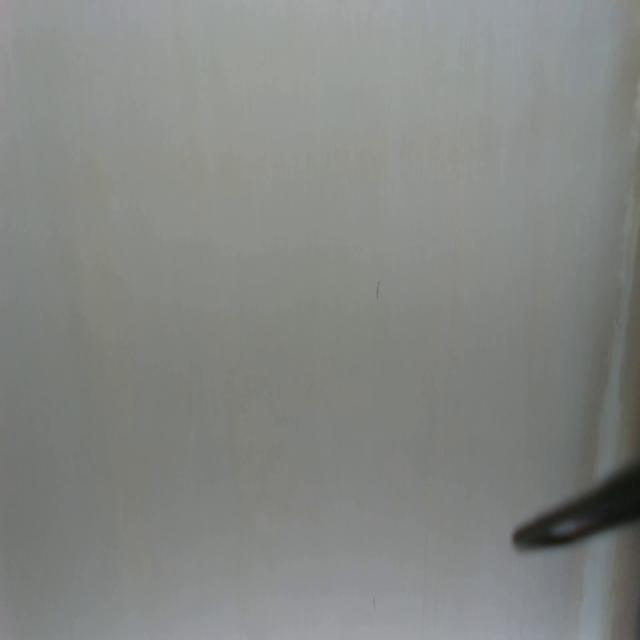crease: (5, 28, 35, 251)
hole: (375, 276, 382, 306), (372, 594, 377, 610)
